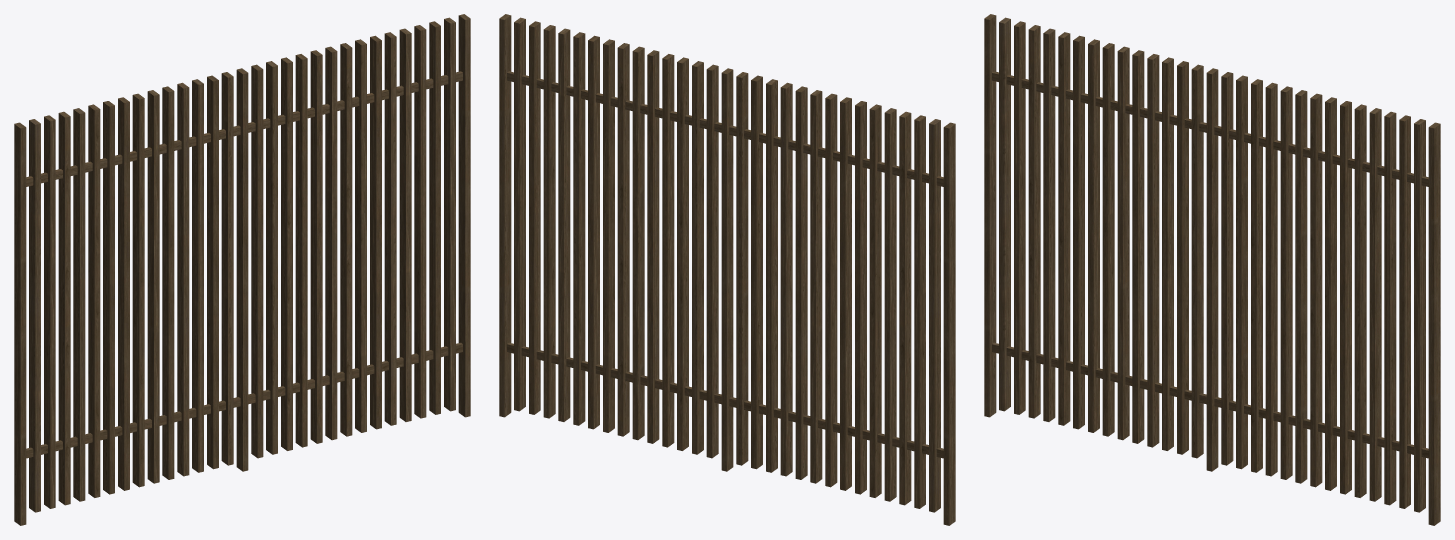
File: sg-reversible-s50_h2000_brownebony.fbx
3 views of the same model, side by side, from view 1: azimuth 30°, elevation 25°; view 2: azimuth 150°, elevation 25°; view 3: azimuth 330°, elevation 25° (orthographic).
Visible parts, largest first — view 1: sg-reversible-s50_h2000_brownebony_2span; view 2: sg-reversible-s50_h2000_brownebony_2span; view 3: sg-reversible-s50_h2000_brownebony_2span.
Part boxes in pixels (left/top/right/bottom): sg-reversible-s50_h2000_brownebony_2span: left=14, top=14, right=470, bottom=525; sg-reversible-s50_h2000_brownebony_2span: left=499, top=14, right=955, bottom=525; sg-reversible-s50_h2000_brownebony_2span: left=984, top=14, right=1440, bottom=525.
Size of the model in its own units: 243 by 205 by 6.
1 material, 1 textured.
